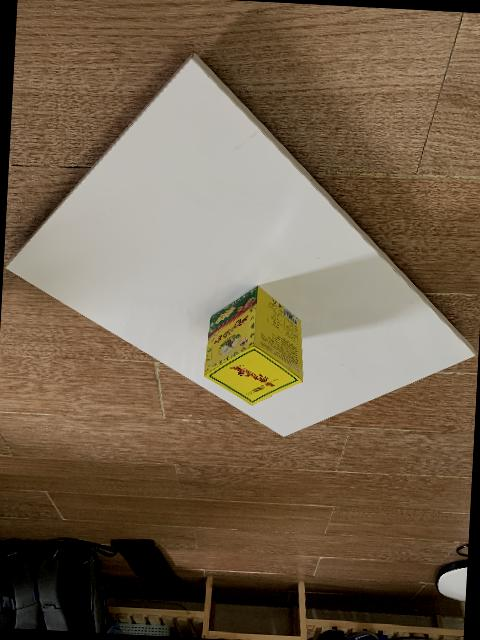luong_kho: (205, 284, 304, 402)
